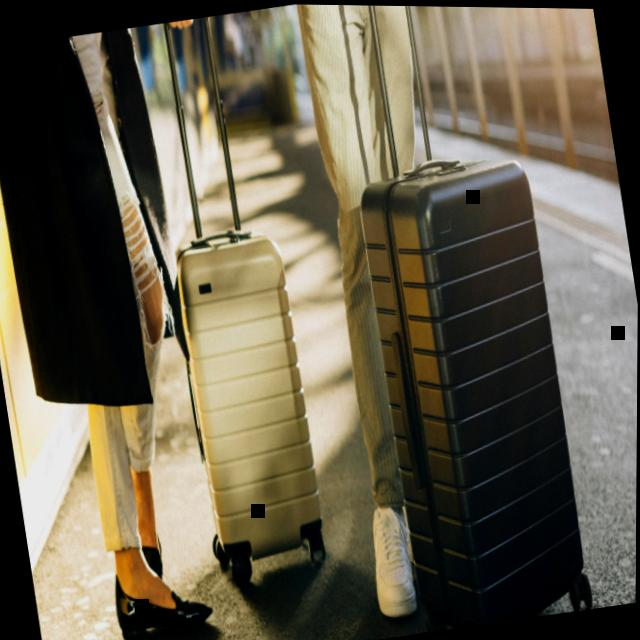luggage: (348, 140, 601, 634), (163, 218, 337, 571)
